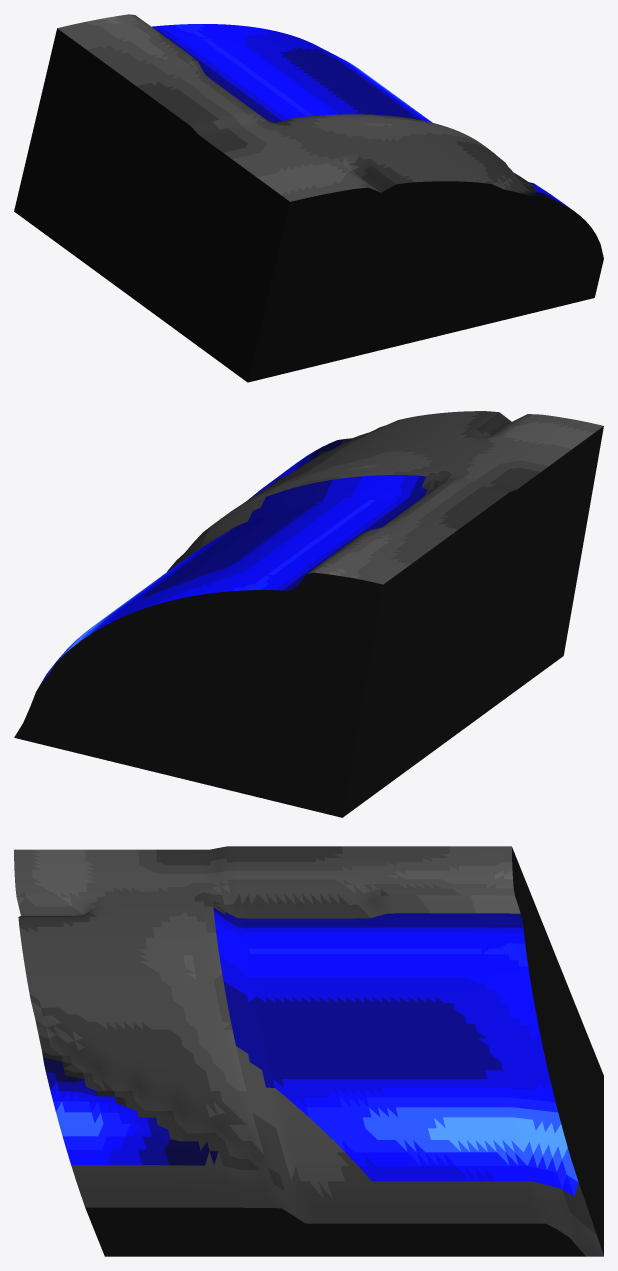
The model's file is time_capsule_56.glb.
3 views of the same model, one above another, from view 1: azimuth 30°, elevation 25°; view 2: azimuth 150°, elevation 25°; view 3: azimuth 270°, elevation 25° (orthographic). The views are drawn at different scales.
Visible parts, largest first — view 1: time_capsule_56; view 2: time_capsule_56; view 3: time_capsule_56.
Boxes of the visible parts, x1,y1,x2,y2 form: time_capsule_56: [14, 14, 603, 382]; time_capsule_56: [14, 411, 603, 817]; time_capsule_56: [14, 846, 603, 1256].
Size of the model in its own units: 24 by 14.2 by 33.1.
